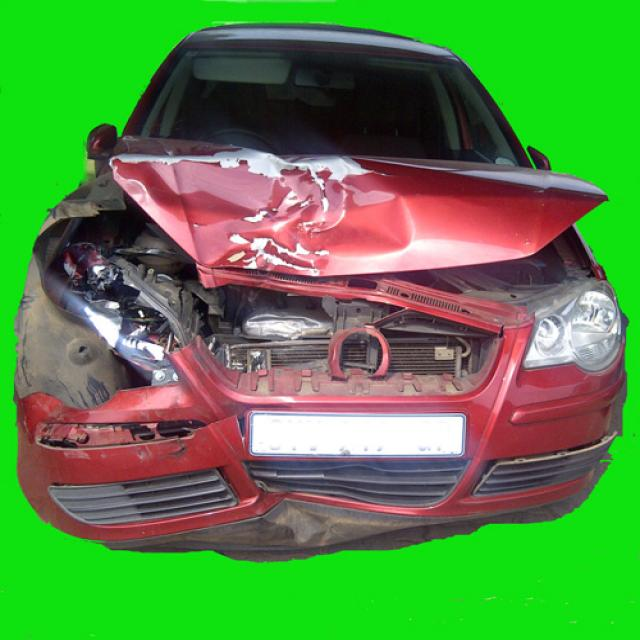crush: (14, 139, 629, 562)
